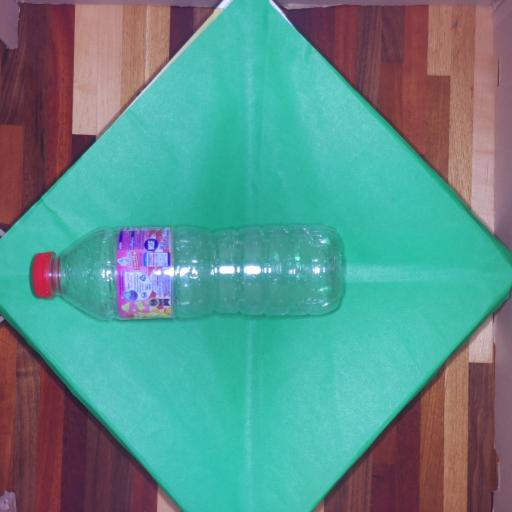bottle: (33, 226, 343, 319)
